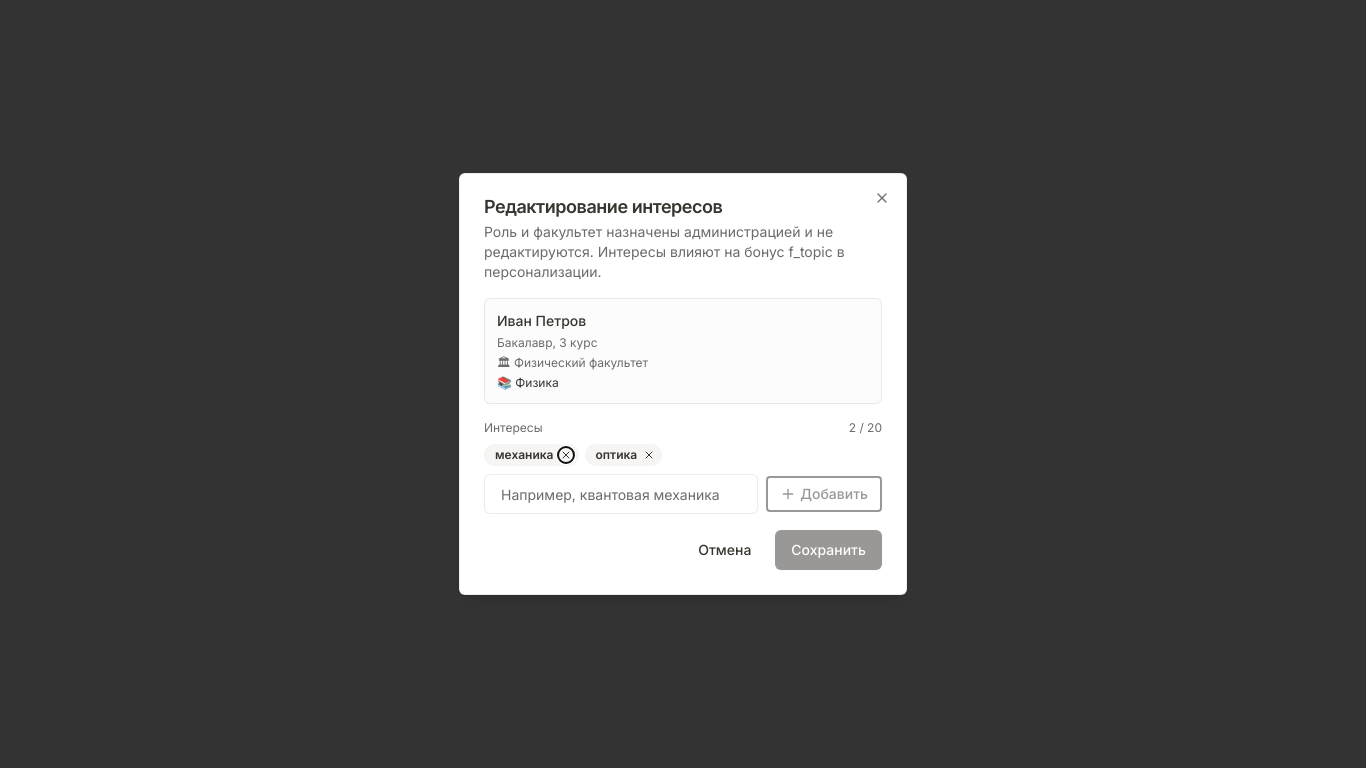
Test: InterestsEditorDialog › adds a new interest via Enter key
Type "лазер" into the field with placeholder "Например, квантовая механика" at (621, 494), box [484,474,758,514]
Then press Enter
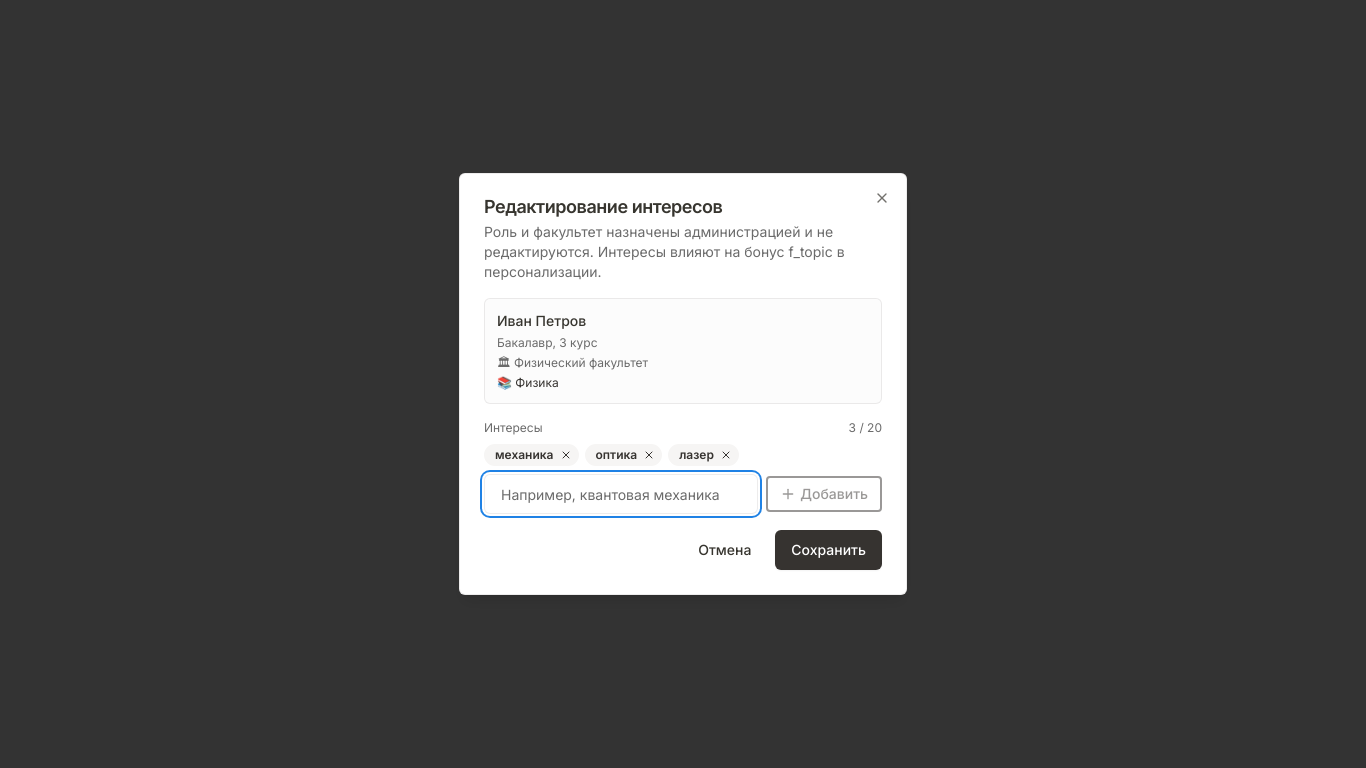
expect the text "лазер" is shown: met, box [679,447,714,463]
